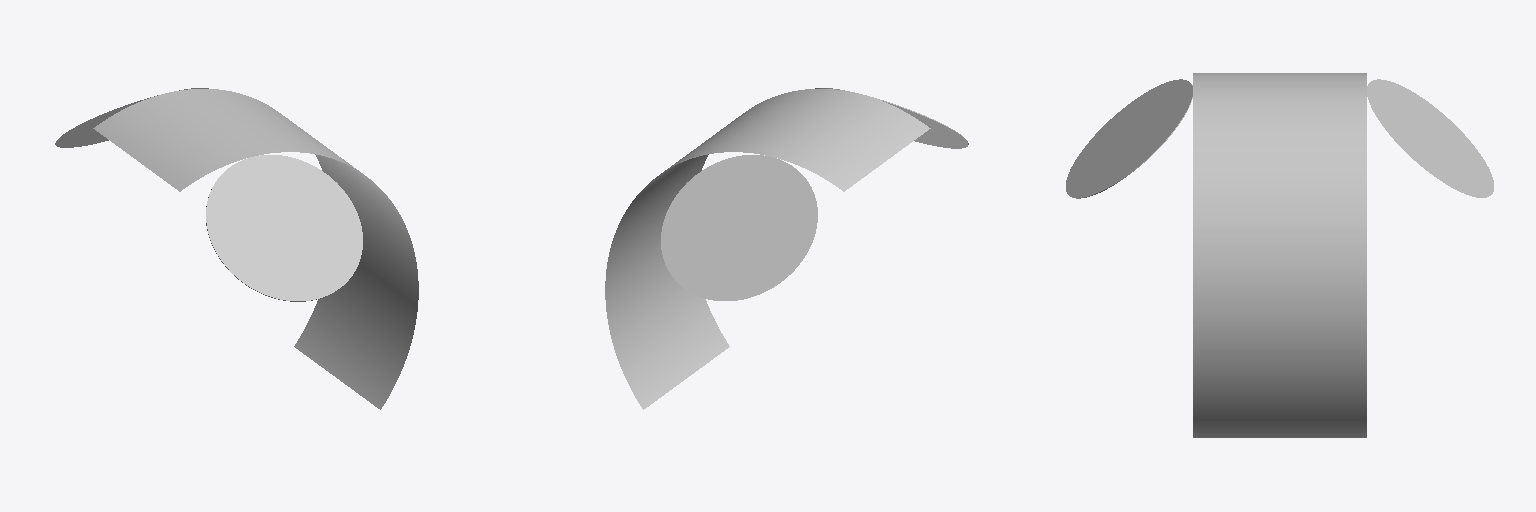
File: plane bend46.obj
3 renders of one model, left to right at view 1: azimuth 30°, elevation 25°; view 2: azimuth 150°, elevation 25°; view 3: azimuth 270°, elevation 25°, orthographic.
Visible parts, largest first — view 1: Plane, Circle, Circle.001; view 2: Plane, Circle.001, Circle; view 3: Plane, Circle, Circle.001.
Boxes of the visible parts, box(x1,y1,x2,y2) form: Plane: box(93, 89, 418, 409); Circle: box(206, 155, 362, 301); Circle.001: box(55, 88, 208, 147); Plane: box(605, 89, 930, 409); Circle.001: box(661, 155, 817, 300); Circle: box(815, 88, 968, 148); Plane: box(1193, 73, 1366, 437); Circle: box(1066, 79, 1192, 198); Circle.001: box(1367, 79, 1493, 197).
Bounding box in the file's own units: 3.18 × 3.62 × 4.94.